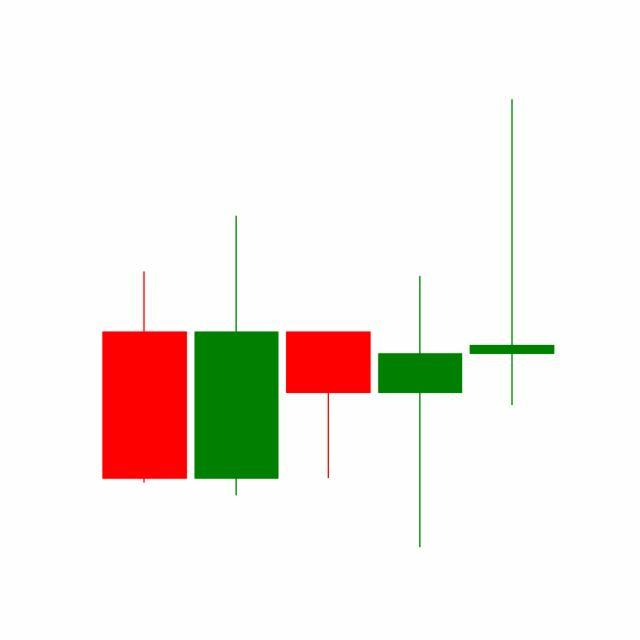Spinning Top: (374, 274, 468, 552)
